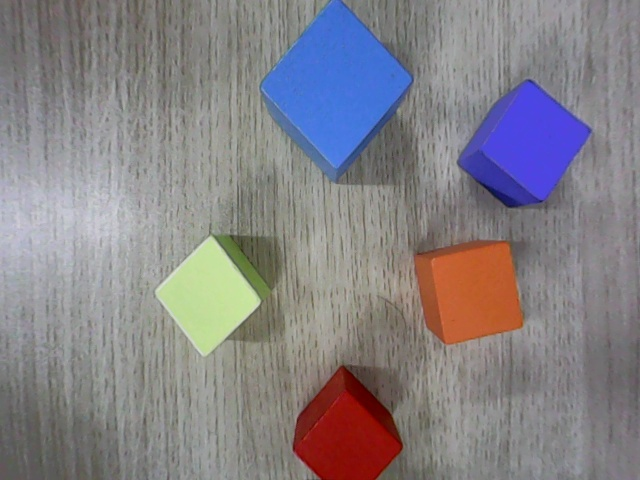upside of big cube: (258, 0, 414, 171)
upside of small cube: (478, 76, 593, 203), (152, 234, 264, 360), (292, 388, 404, 479), (430, 239, 524, 345)
